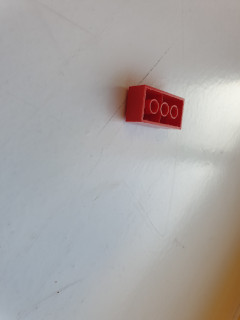2x4 red: (122, 82, 186, 135)
